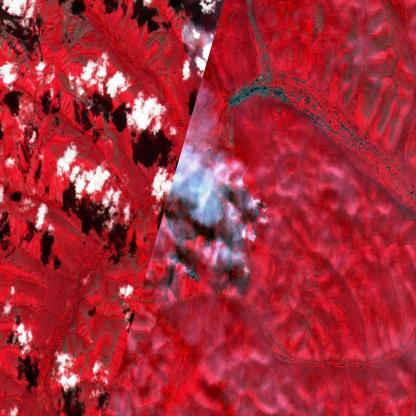fire: (161, 156, 270, 305), (178, 9, 202, 49)
